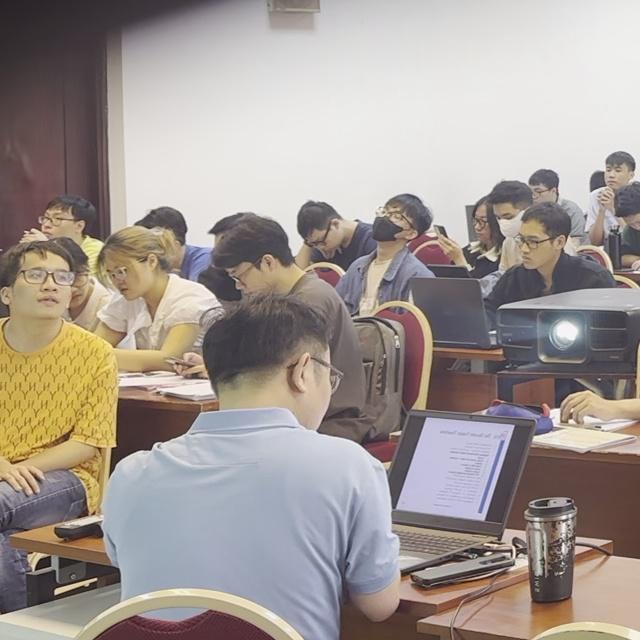Looking away: (19, 268, 70, 312), (519, 235, 545, 268), (112, 258, 133, 298), (306, 232, 337, 252), (474, 214, 489, 241), (531, 186, 548, 206)
Looking forward: (41, 213, 71, 238), (606, 165, 623, 188)
Phone use: (164, 220, 359, 396)
